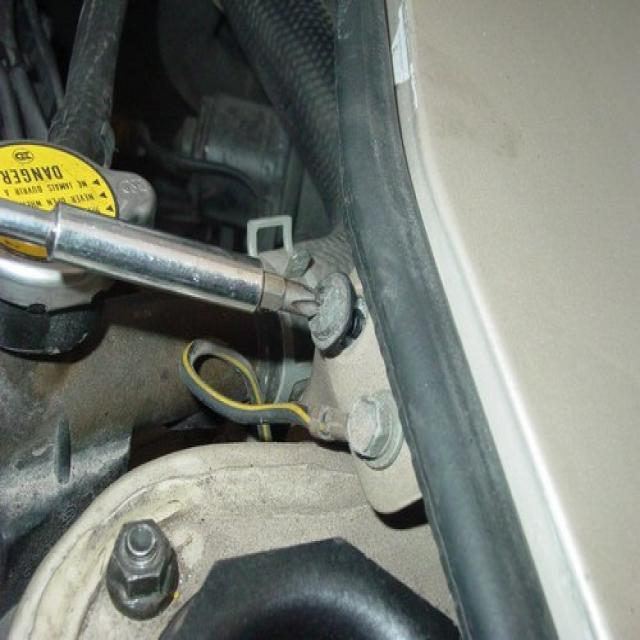screwdriver: (0, 152, 334, 348)
